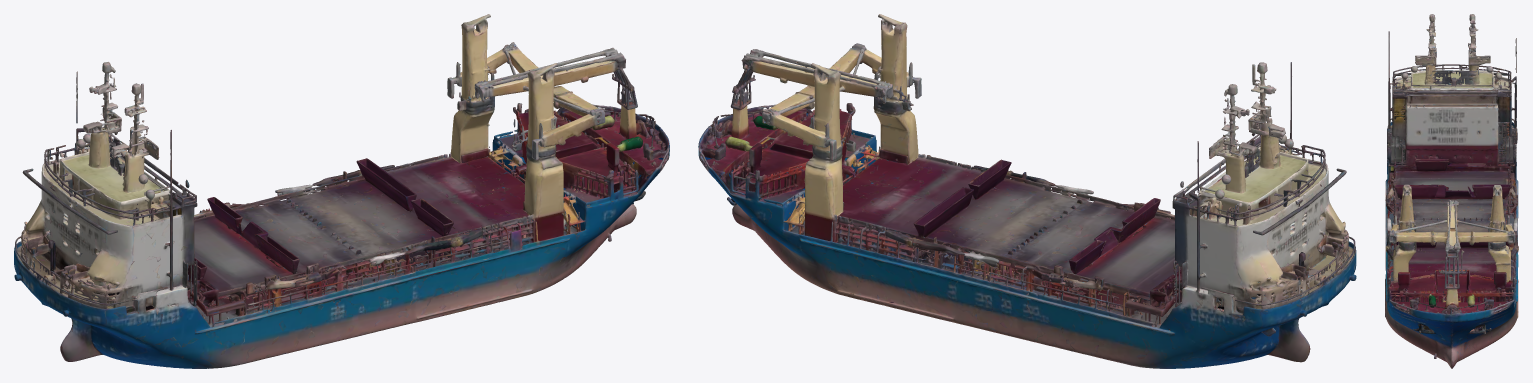
The model's file is P1-concat_2026-05-06T145555.024.glb.
The picture shows the model from 3 angles, left to right: view 1: azimuth 30°, elevation 25°; view 2: azimuth 150°, elevation 25°; view 3: azimuth 270°, elevation 25°; orthographic projection. The views are drawn at different scales.
Parts seen in each view (by area): view 1: world; view 2: world; view 3: world.
Boxes of the visible parts, left/top/right/bottom form: world: left=14, top=14, right=669, bottom=368; world: left=698, top=14, right=1356, bottom=368; world: left=1385, top=14, right=1518, bottom=368.
Bounding box in the file's own units: 1 × 0.4257 × 0.2768.
1 material, 1 textured.
